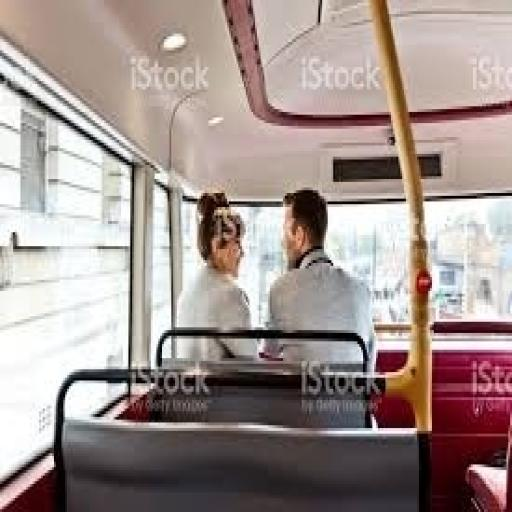sitting: (257, 184, 378, 408), (171, 188, 259, 366)
